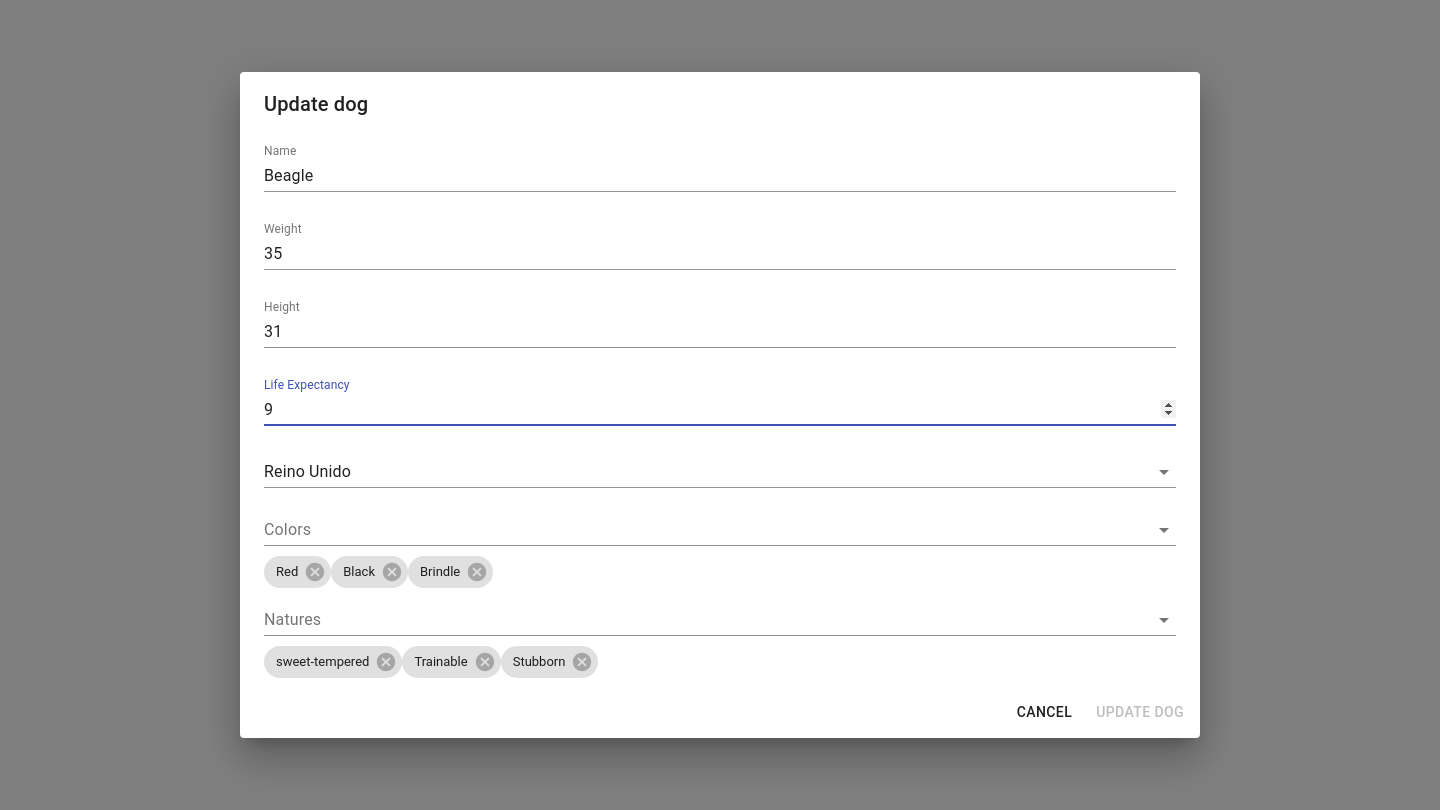
Test: Success cases, Edit Dialog Form › Edit button should be enabled if a change has been made
Expected: the button with test id "e2e-create-update-dialog-button" is disabled, [1088,694,1192,730]
Type " Updated" into the field with test id "e2e-breed-dog-name-input" at (720, 176), box [264,160,1176,192]
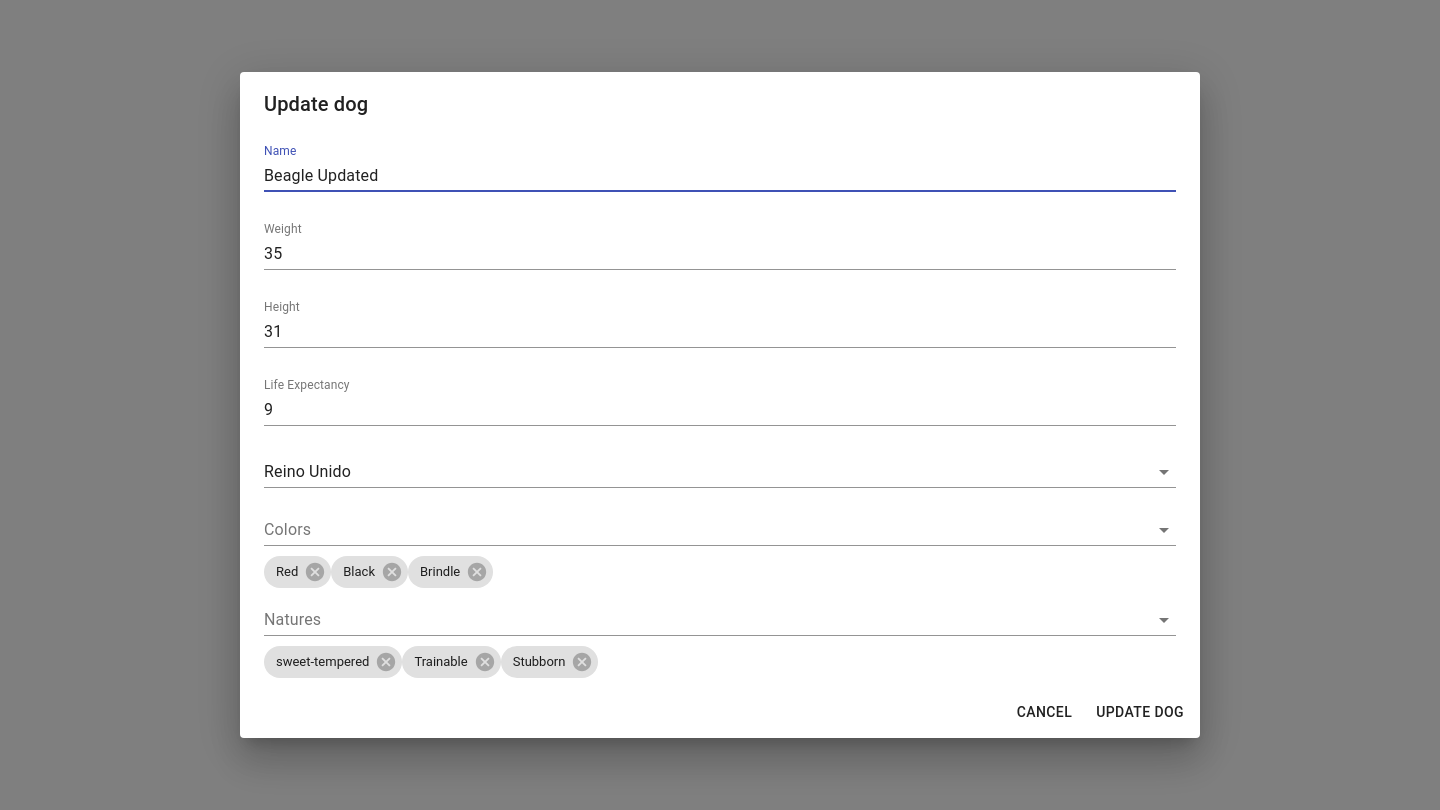
Now the button with test id "e2e-create-update-dialog-button" is enabled, box [1088,694,1192,730]
